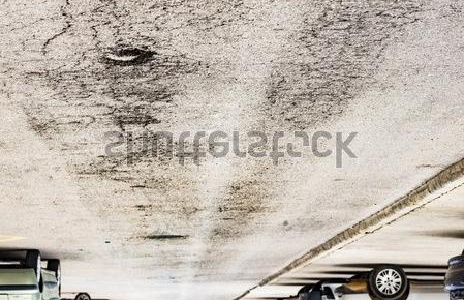pothole: (98, 45, 156, 69), (141, 233, 190, 245)
